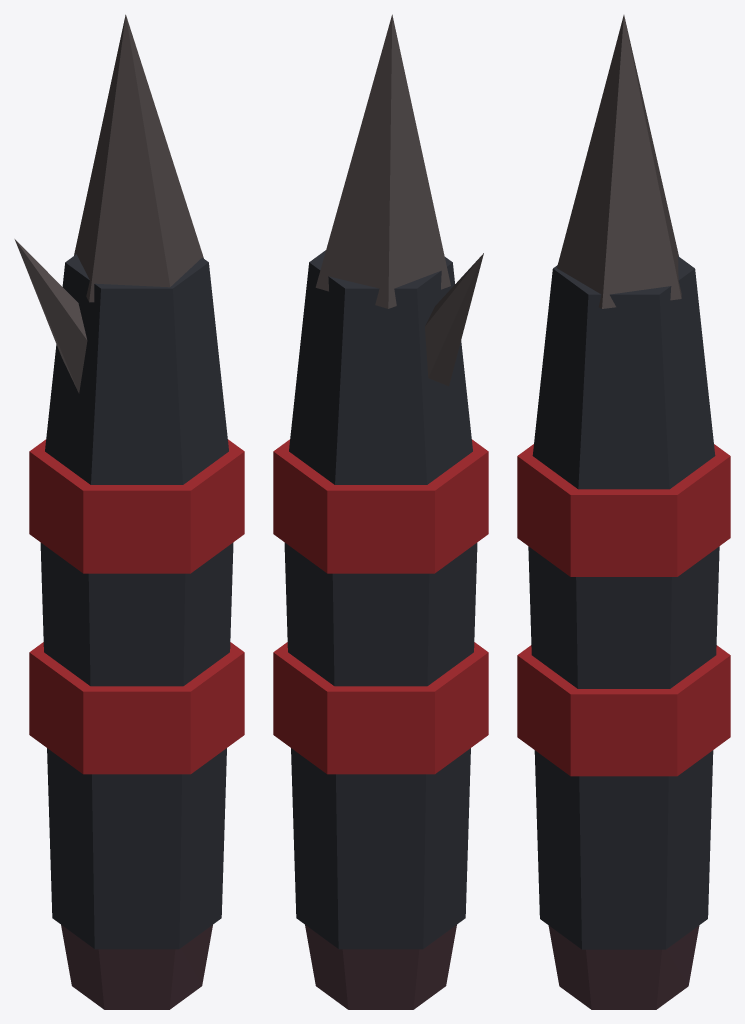
File: person_tool_shard_insanity.obj
The picture shows the model from 3 angles, left to right: view 1: azimuth 30°, elevation 25°; view 2: azimuth 150°, elevation 25°; view 3: azimuth 270°, elevation 25°; orthographic projection.
Bounding box in the file's own units: 0.0686 × 0.33 × 0.066.
